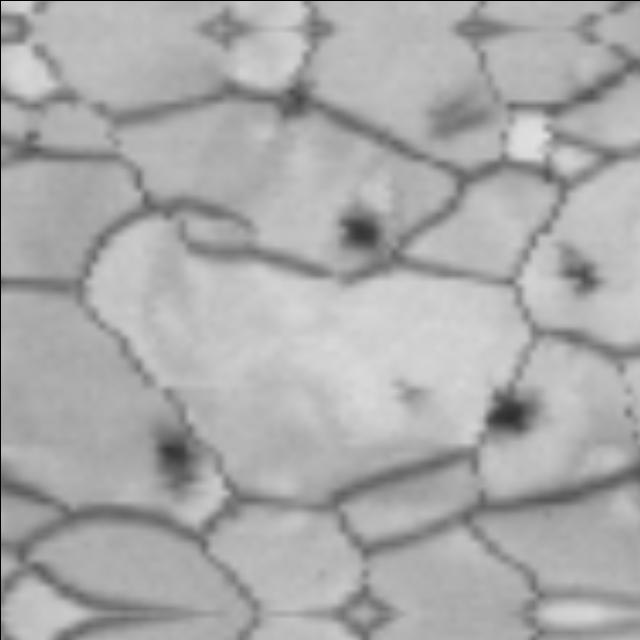good_void: (129, 405, 214, 512), (533, 223, 613, 311), (412, 73, 502, 147), (473, 377, 555, 452), (323, 193, 390, 261), (375, 366, 439, 418), (269, 78, 322, 122), (23, 126, 46, 145)
